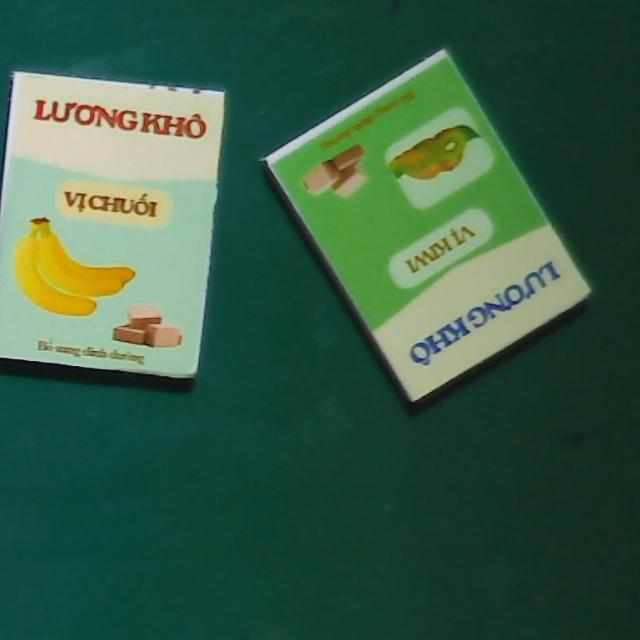chuoi: (0, 72, 227, 378)
kiwi: (261, 48, 595, 407)
